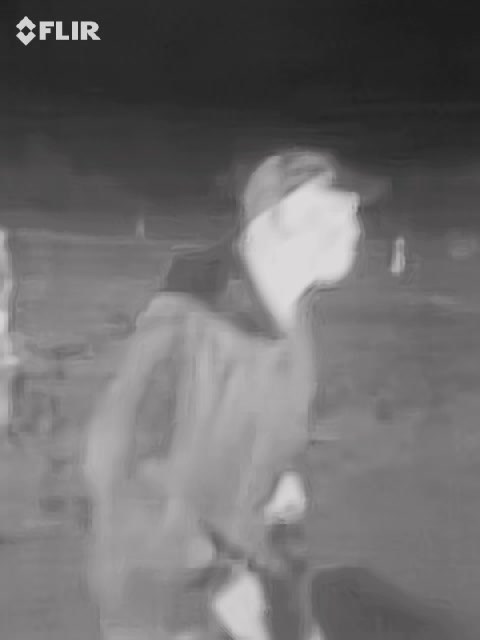head: (235, 148, 371, 303)
